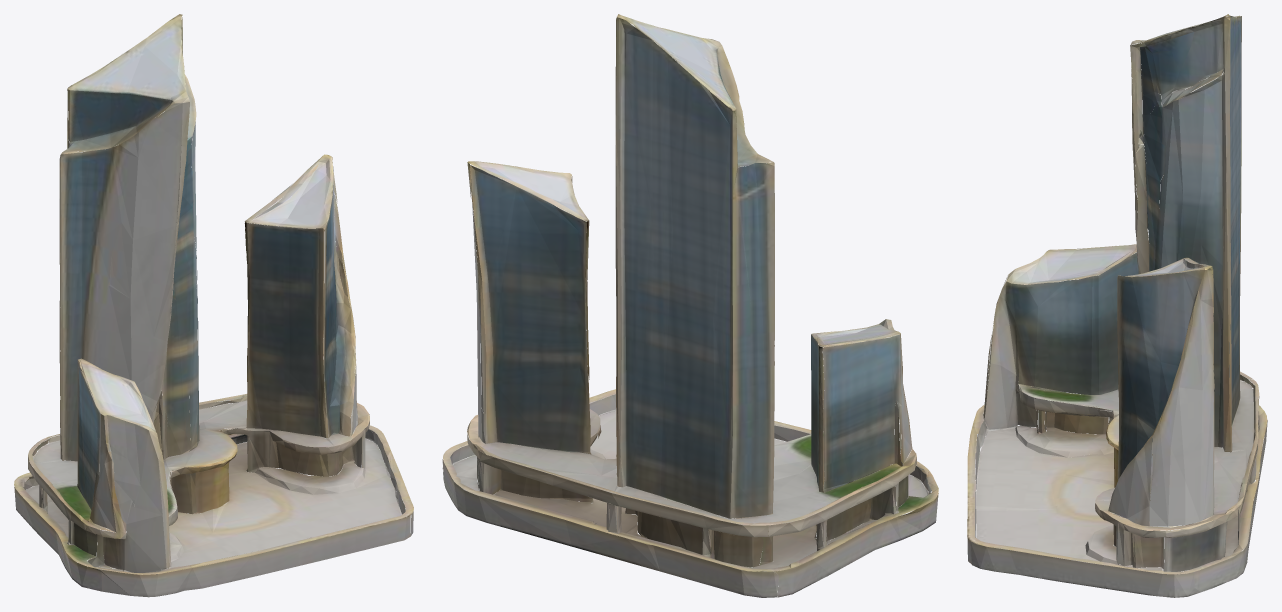
The model's file is business.glb.
The picture shows the model from 3 angles, left to right: view 1: azimuth 30°, elevation 25°; view 2: azimuth 150°, elevation 25°; view 3: azimuth 270°, elevation 25°; orthographic projection. The views are drawn at different scales.
Parts seen in each view (by area): view 1: geometry_0; view 2: geometry_0; view 3: geometry_0.
Part boxes in pixels (x1,y1,x2,y2): geometry_0: (14, 14, 413, 597); geometry_0: (442, 14, 938, 597); geometry_0: (967, 14, 1267, 597).
Bounding box in the file's own units: 0.8238 × 1 × 0.5518.
Materials: 1 (1 with a texture image).
